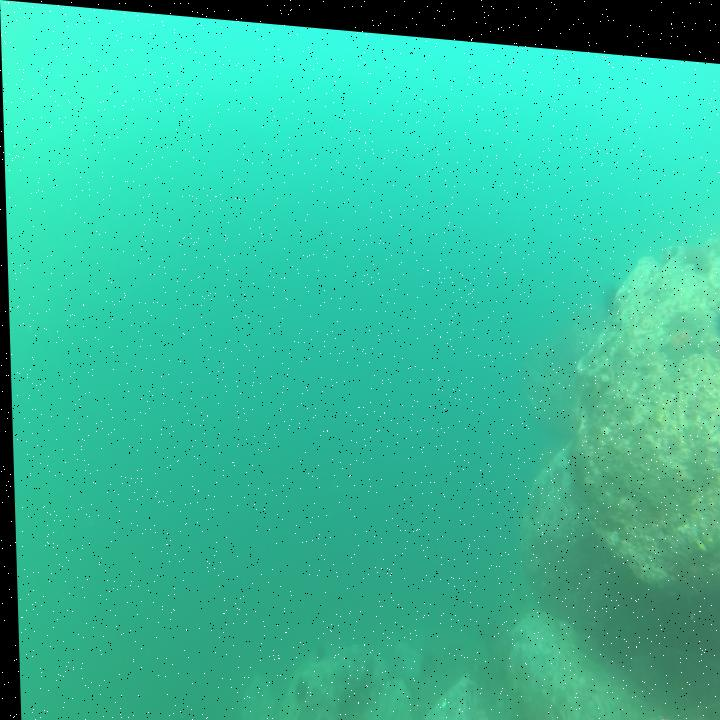echinus: (683, 224, 709, 260), (289, 671, 307, 697), (602, 272, 617, 299)
starfish: (658, 307, 704, 353)
